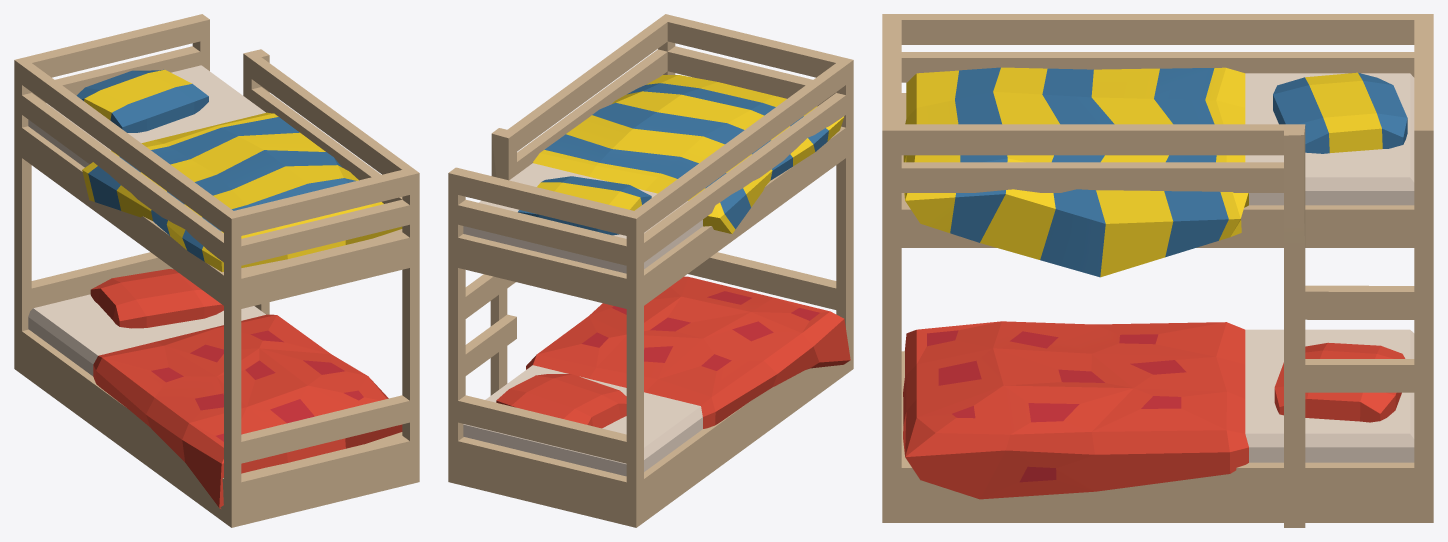
File: furniture_bed-bunk-kids-old.fbx
3 renders of one model, left to right at view 1: azimuth 30°, elevation 25°; view 2: azimuth 150°, elevation 25°; view 3: azimuth 270°, elevation 25°, orthographic. The views are drawn at different scales.
Visible parts, largest first — view 1: furniture_bed_bunk_kids_old; view 2: furniture_bed_bunk_kids_old; view 3: furniture_bed_bunk_kids_old.
Part boxes in pixels (left/top/right/bottom): furniture_bed_bunk_kids_old: left=14, top=14, right=419, bottom=527; furniture_bed_bunk_kids_old: left=448, top=14, right=853, bottom=527; furniture_bed_bunk_kids_old: left=882, top=14, right=1433, bottom=527.
Size of the model in its own units: 115 by 157 by 200.
